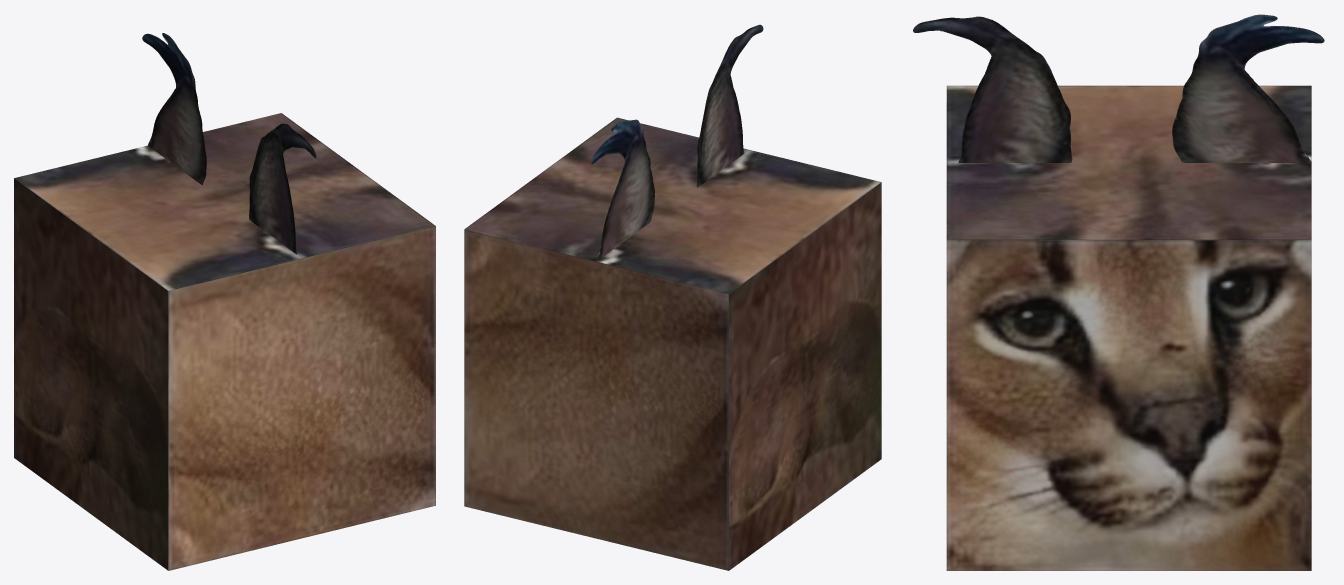
The model's file is floppa_cube_model.glb.
3 views of the same model, side by side, from view 1: azimuth 30°, elevation 25°; view 2: azimuth 150°, elevation 25°; view 3: azimuth 270°, elevation 25° (orthographic). The views are drawn at different scales.
Parts seen in each view (by area): view 1: Cube_0_3, Plane.001_2_7, Plane_1_5; view 2: Cube_0_3, Plane.001_2_7, Plane_1_5; view 3: Cube_0_3, Plane.001_2_7, Plane_1_5.
Part boxes in pixels (left/top/right/bottom): Cube_0_3: left=14, top=113, right=435, bottom=570; Plane.001_2_7: left=142, top=33, right=206, bottom=185; Plane_1_5: left=249, top=123, right=316, bottom=254; Cube_0_3: left=464, top=117, right=881, bottom=570; Plane.001_2_7: left=591, top=119, right=654, bottom=261; Plane_1_5: left=696, top=24, right=763, bottom=187; Cube_0_3: left=946, top=85, right=1311, bottom=570; Plane.001_2_7: left=1172, top=14, right=1324, bottom=162; Plane_1_5: left=913, top=16, right=1072, bottom=162.
Bounding box in the file's own units: 2 × 2.9 × 2.3.
Materials: 2 (2 with a texture image).
